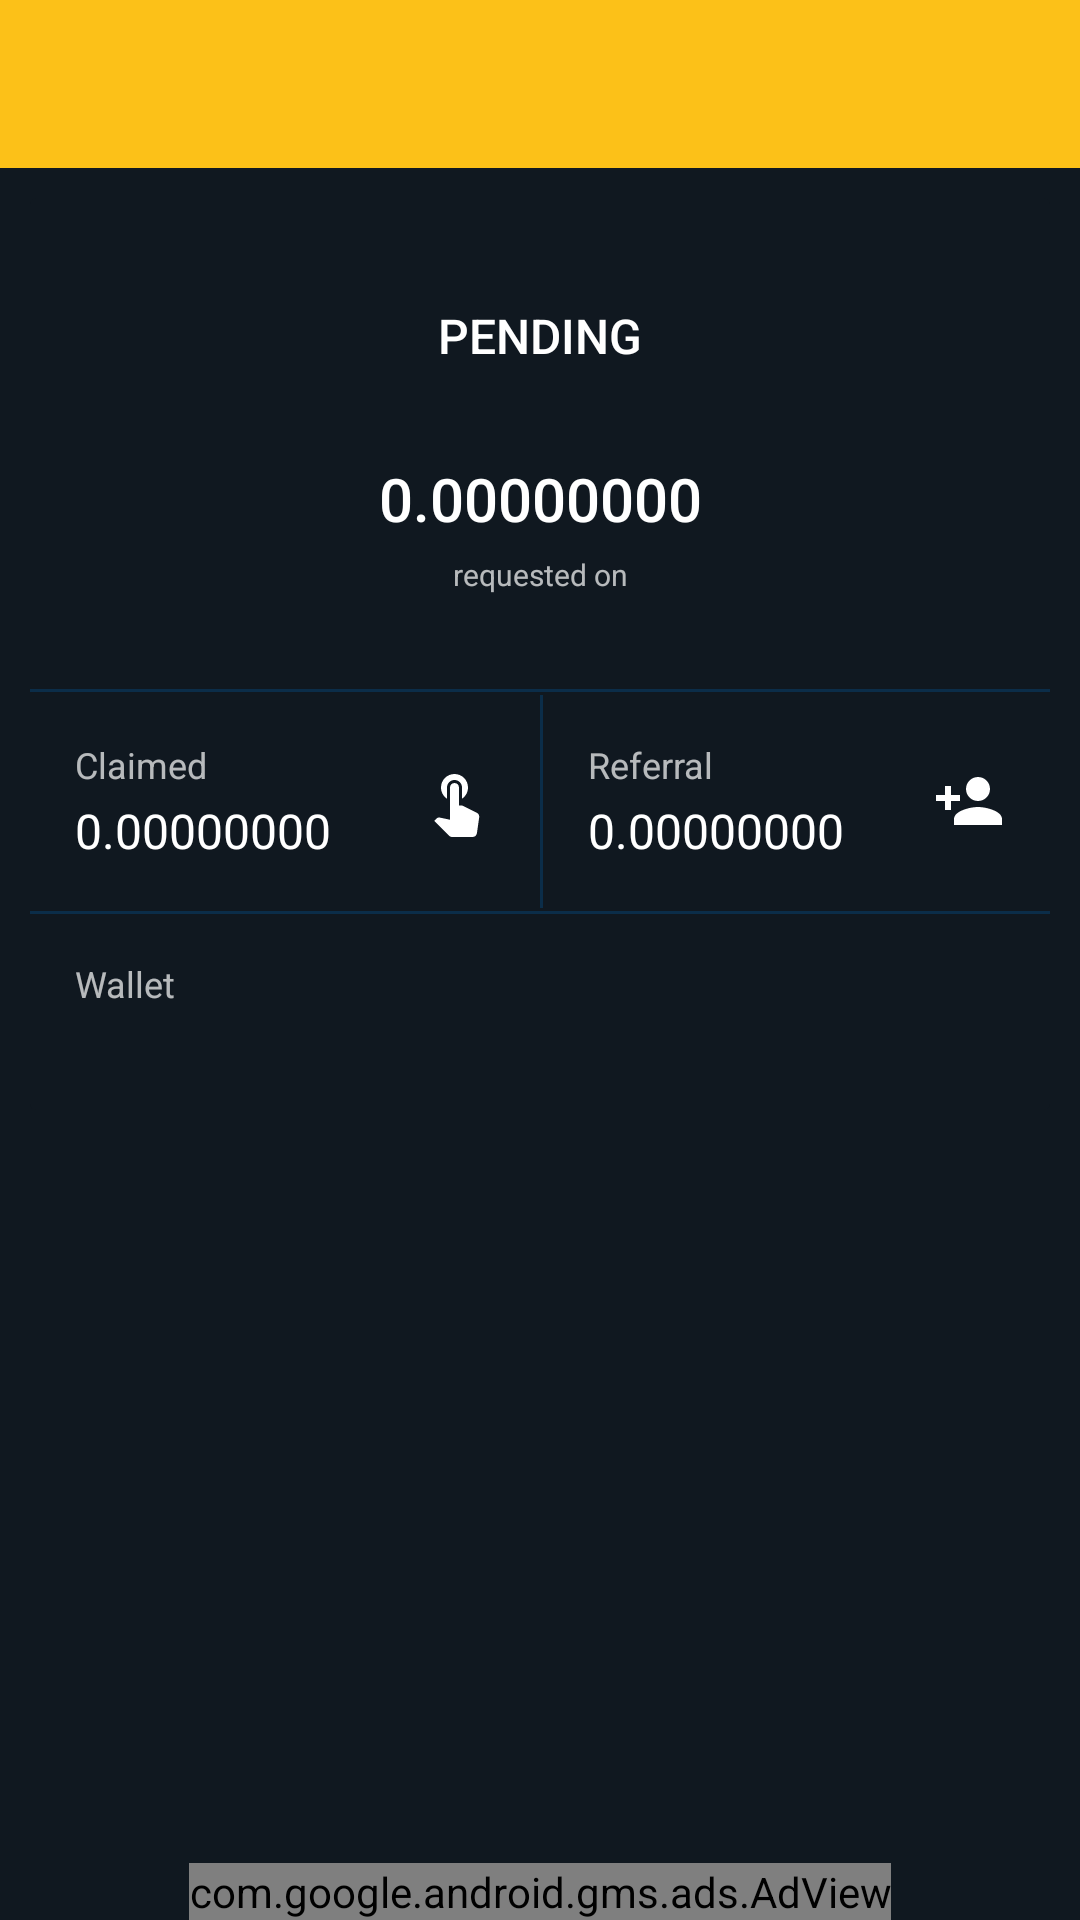

Where to tap for icons on this 1080px×1920px app screen, as (x=x, y=y):
person add: (x=969, y=801)
touch app: (x=457, y=805)
